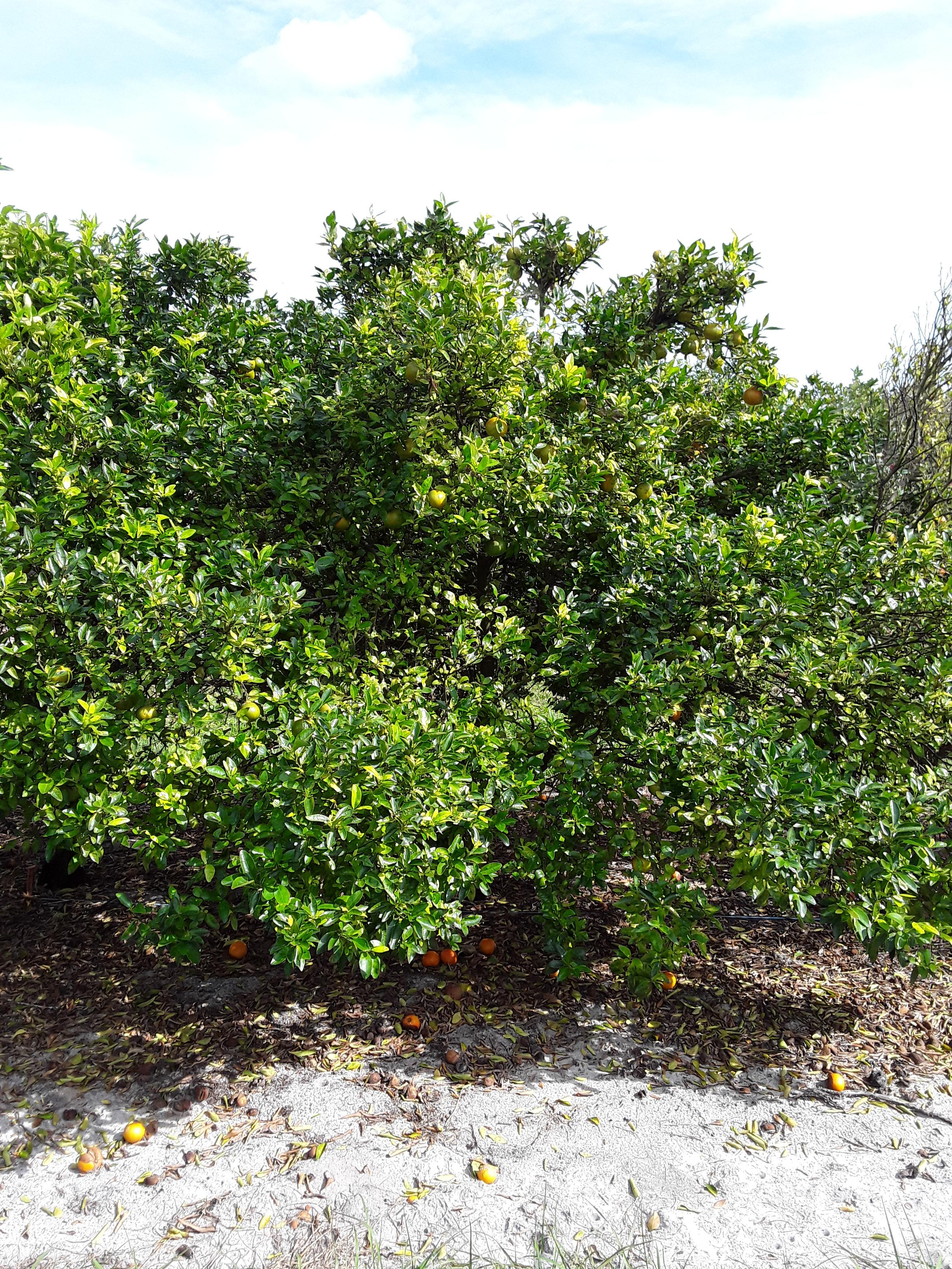fruit_on_ground: (106, 681, 136, 711), (289, 717, 318, 744), (46, 661, 75, 687), (391, 435, 418, 461), (483, 412, 509, 438), (312, 697, 339, 721), (402, 360, 427, 384), (534, 440, 559, 464), (382, 506, 407, 530), (483, 535, 507, 558), (426, 487, 450, 510), (233, 358, 257, 380), (240, 699, 262, 723), (741, 385, 765, 407), (630, 853, 652, 875), (677, 444, 700, 465), (135, 701, 158, 722), (233, 353, 257, 373), (329, 512, 351, 533), (634, 480, 655, 502), (726, 328, 747, 349), (598, 472, 619, 493), (702, 321, 724, 341), (247, 354, 268, 374), (679, 336, 700, 356), (704, 356, 726, 375), (690, 437, 710, 457), (667, 703, 686, 724), (686, 622, 707, 640), (504, 263, 523, 282), (676, 308, 696, 326), (651, 341, 668, 360), (504, 244, 523, 261), (562, 239, 579, 257), (649, 246, 667, 261)
fruit_on_tree: (76, 1147, 105, 1175), (122, 1119, 147, 1144), (226, 937, 250, 961), (863, 1069, 889, 1091), (656, 967, 679, 991), (476, 1163, 499, 1187), (826, 1070, 848, 1094), (444, 982, 467, 1002), (476, 935, 497, 956), (439, 946, 459, 967), (421, 948, 441, 968), (140, 1170, 162, 1188), (401, 1012, 422, 1030), (192, 1083, 211, 1102), (176, 1242, 196, 1260), (442, 1047, 462, 1065), (173, 1096, 193, 1112)
